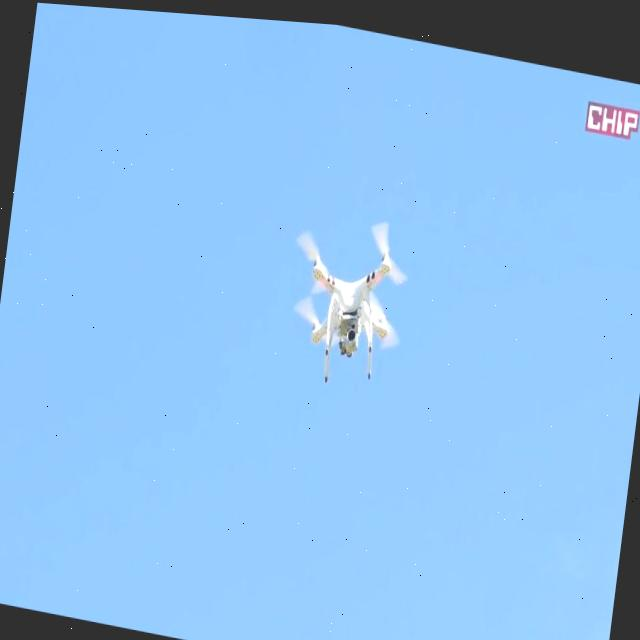drone: (291, 218, 404, 387)
